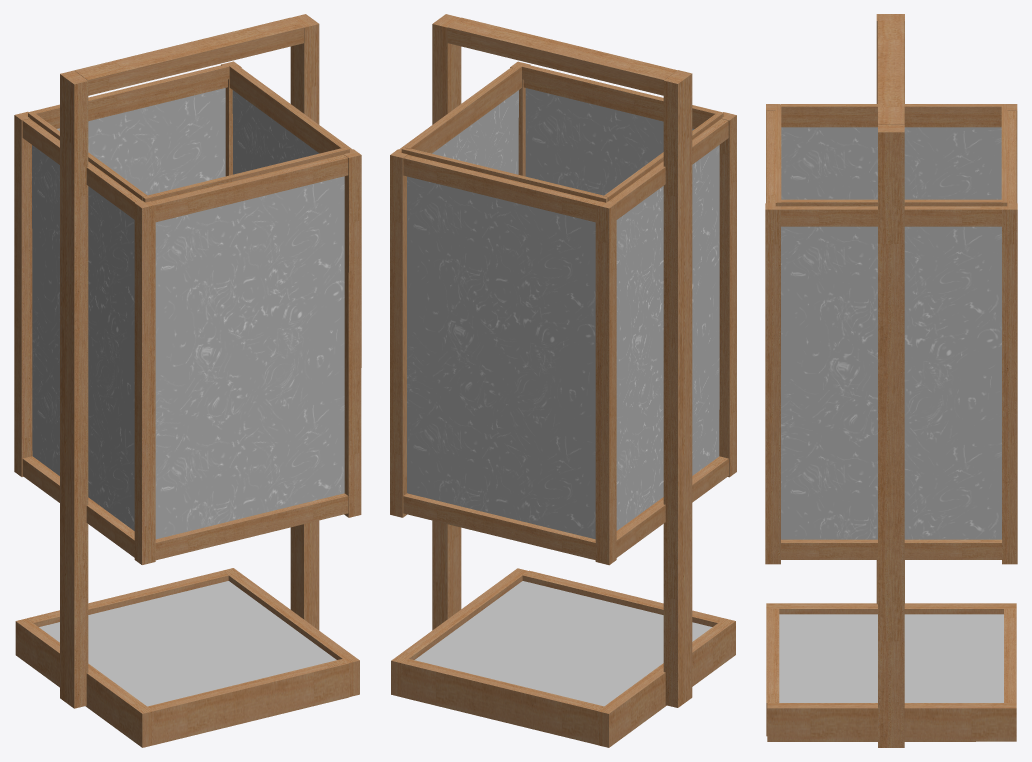
The model's file is jov_andon02.fbx.
3 renders of one model, left to right at view 1: azimuth 30°, elevation 25°; view 2: azimuth 150°, elevation 25°; view 3: azimuth 270°, elevation 25°, orthographic.
Visible parts, largest first — view 1: jov_andon02; view 2: jov_andon02; view 3: jov_andon02.
Part boxes in pixels (x1=…): jov_andon02: x1=14, y1=14, x2=361, y2=747; jov_andon02: x1=390, y1=14, x2=736, y2=747; jov_andon02: x1=765, y1=14, x2=1017, y2=747.
Size of the model in its own units: 33.92 by 82.52 by 30.54.
